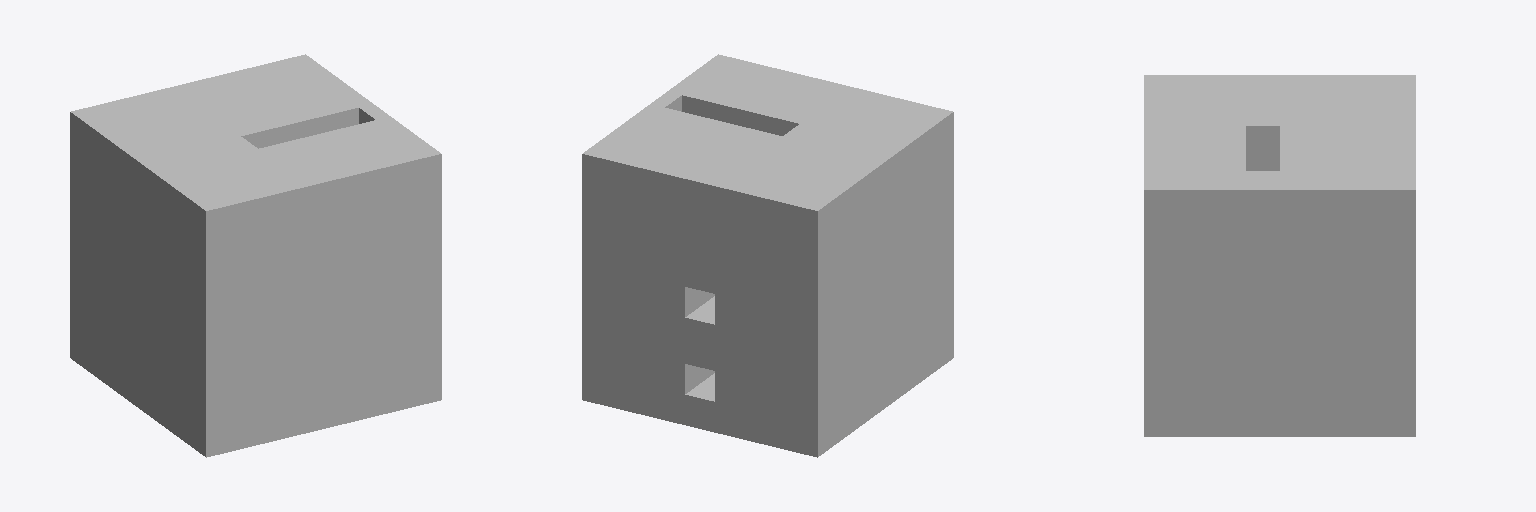
Rendered from map_cube.obj.
3 views of the same model, side by side, from view 1: azimuth 30°, elevation 25°; view 2: azimuth 150°, elevation 25°; view 3: azimuth 270°, elevation 25° (orthographic).
Parts seen in each view (by area): view 1: cube; view 2: cube; view 3: cube.
Boxes of the visible parts, x1=… form: cube: x1=70, y1=54, x2=441, y2=457; cube: x1=582, y1=54, x2=953, y2=457; cube: x1=1144, y1=75, x2=1415, y2=436.
Bounding box in the file's own units: 200 × 200 × 200.